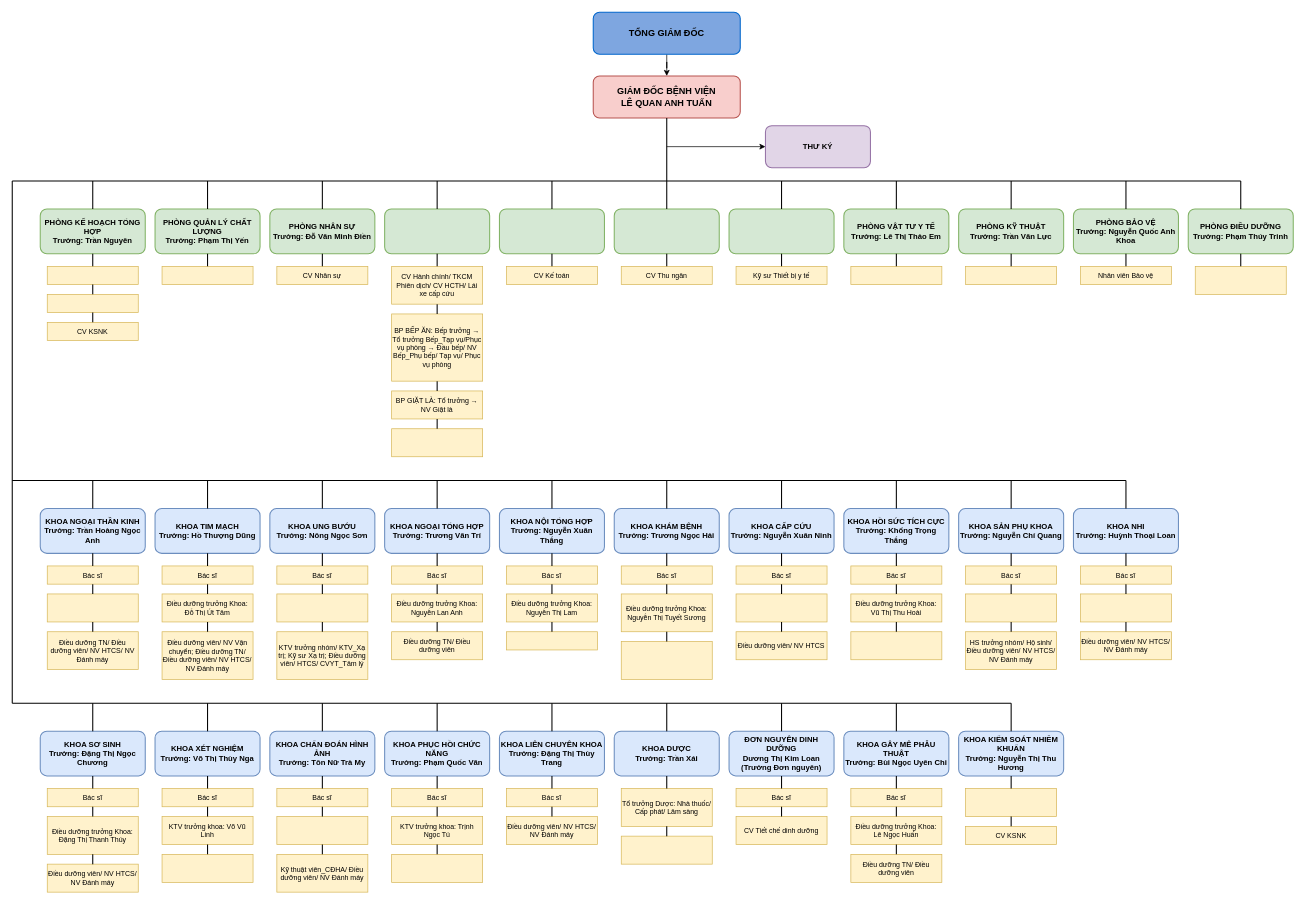
The diagram is 1306 pixels wide and 905 high, and some of its shapes have lost their labels. Here are the shapes that lost their labels. From the top down, the box of each, then its label:
(384, 208, 490, 254): PHÒNG QUẢN LÝ DỊCH VỤ Trưởng: Trịnh Phan Hồng Minh
(499, 208, 605, 254): PHÒNG KẾ TOÁN Trưởng: Nguyễn Ngô Bảo Linh
(613, 208, 719, 254): PHÒNG QUAN HỆ KHÁCH HÀNG Trưởng: Trần Duy My
(728, 208, 834, 254): PHÒNG THIẾT BỊ Y TẾ Trưởng: Nguyễn Đăng Tài
(47, 266, 138, 285): CV KHTH
(161, 266, 253, 285): CV QLCL
(850, 266, 942, 285): Nhân viên Kho
(965, 266, 1057, 285): Nhân viên Kỹ thuật
(1195, 266, 1286, 294): ĐIỀU DƯỠNG/ HỘ SINH/ KTV TRƯỞNG
(47, 294, 138, 313): NV HSBA
(391, 428, 483, 457): BP HÀNH CHÍNH: Tổ trưởng
(47, 593, 138, 622): Điều dưỡng trưởng Khoa: Lê Thị Trường Anh
(276, 593, 368, 622): Điều dưỡng trưởng Khoa: Đoàn Minh Sang
(735, 593, 827, 622): Điều dưỡng trưởng Khoa: Võ Thị Kim Thanh
(965, 593, 1057, 622): Hộ sinh trưởng Khoa: Hồ Thị Thùy Sang
(1080, 593, 1171, 622): Điều dưỡng trưởng Khoa: Nguyễn Thị Lệ Nga
(506, 631, 597, 650): Điều dưỡng viên/ HTCS
(621, 641, 712, 679): Điều dưỡng TN/ Điều dưỡng viên/ NV Đánh máy
(850, 631, 942, 660): Điều dưỡng TN/ Điều dưỡng viên/ NV HTCS
(965, 788, 1057, 817): KTV trưởng khoa: Phan Ngọc Gương
(276, 816, 368, 845): KTV trưởng khoa: Phạm Thanh Bắc
(621, 835, 712, 864): Dược sĩ/ Dược sĩ LS/ Dược Cao đẳng
(161, 854, 253, 882): Kỹ thuật viên_Xét nghiệm
(391, 854, 483, 882): KTV_Phục hồi chức năng
